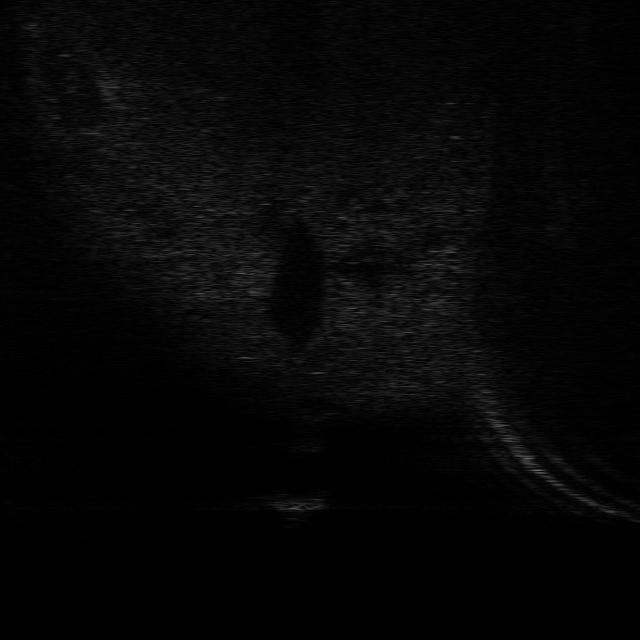cube: (258, 490, 334, 525)
